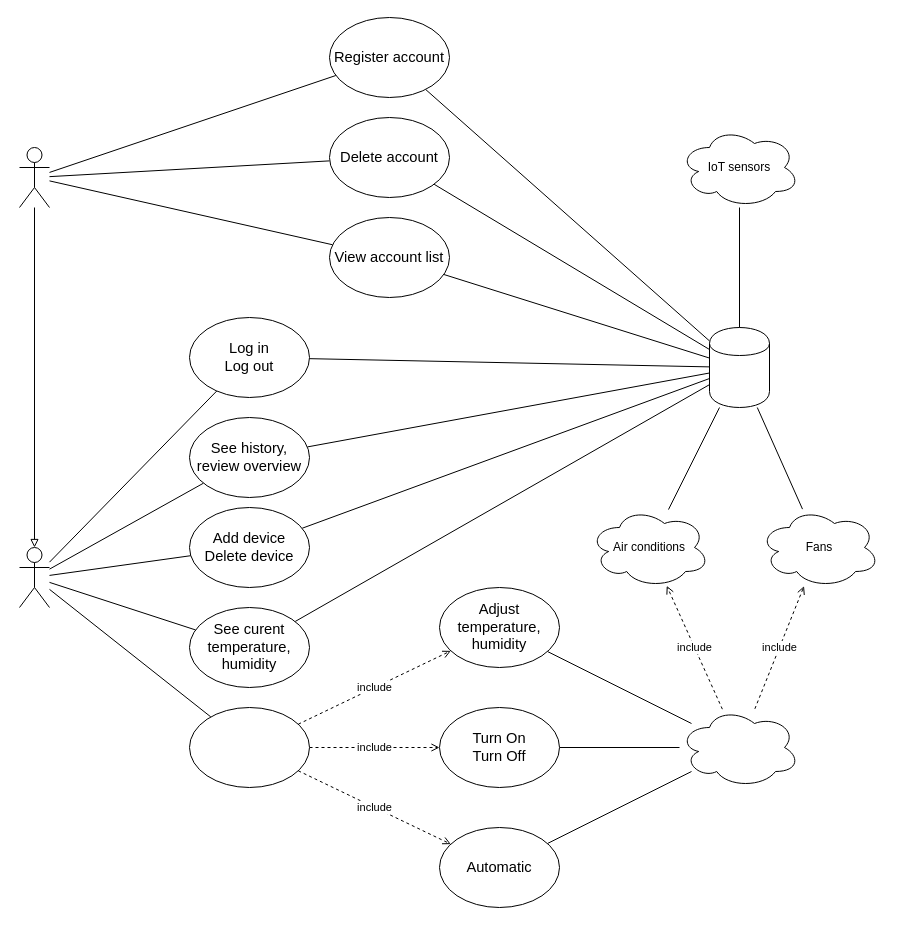
This 897x925 diagram has some shape labels left out. The shapes that lost their labels are listed below. From the top down, each one's centre as x and y in pixels, then its label:
At pixel 34 177: "Admin".
At pixel 739 367: "Database".
At pixel 34 577: "User".
At pixel 249 747: "Adjust Devices".
At pixel 739 747: "Devices".
